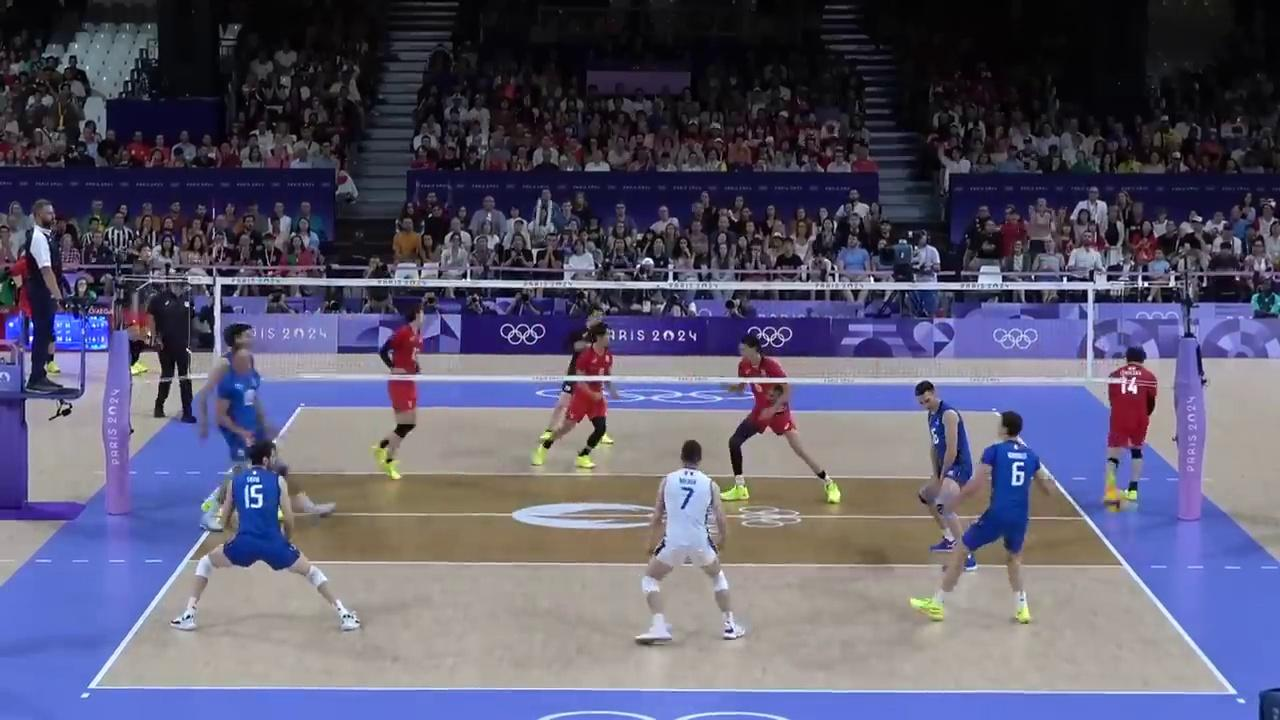ball: (1103, 490, 1127, 513)
